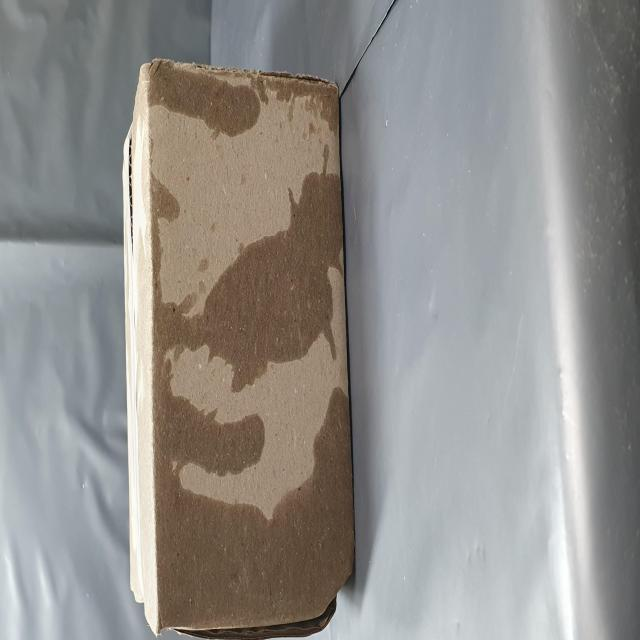wet: (8, 228, 320, 628)
